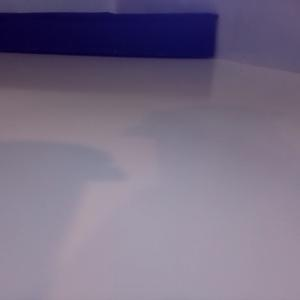zone: (1, 11, 218, 59)
